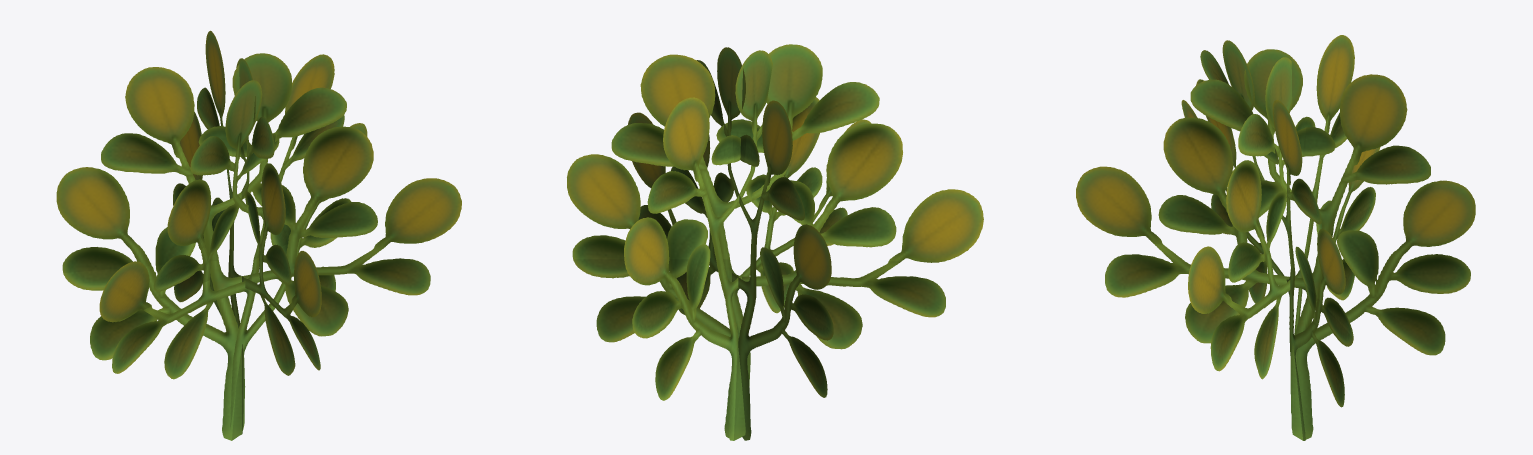
Rendered from SM_GroundCover_a.fbx.
The picture shows the model from 3 angles, left to right: view 1: azimuth 30°, elevation 25°; view 2: azimuth 150°, elevation 25°; view 3: azimuth 270°, elevation 25°; orthographic projection. The views are drawn at different scales.
Parts seen in each view (by area): view 1: SM_GroundCover_a; view 2: SM_GroundCover_a; view 3: SM_GroundCover_a.
Part boxes in pixels (bbox=[...]): SM_GroundCover_a: bbox=[56, 30, 461, 440]; SM_GroundCover_a: bbox=[567, 44, 983, 440]; SM_GroundCover_a: bbox=[1076, 35, 1475, 440].
Bounding box in the file's own units: 36.03 × 35.44 × 34.15.
1 material, 1 textured.
